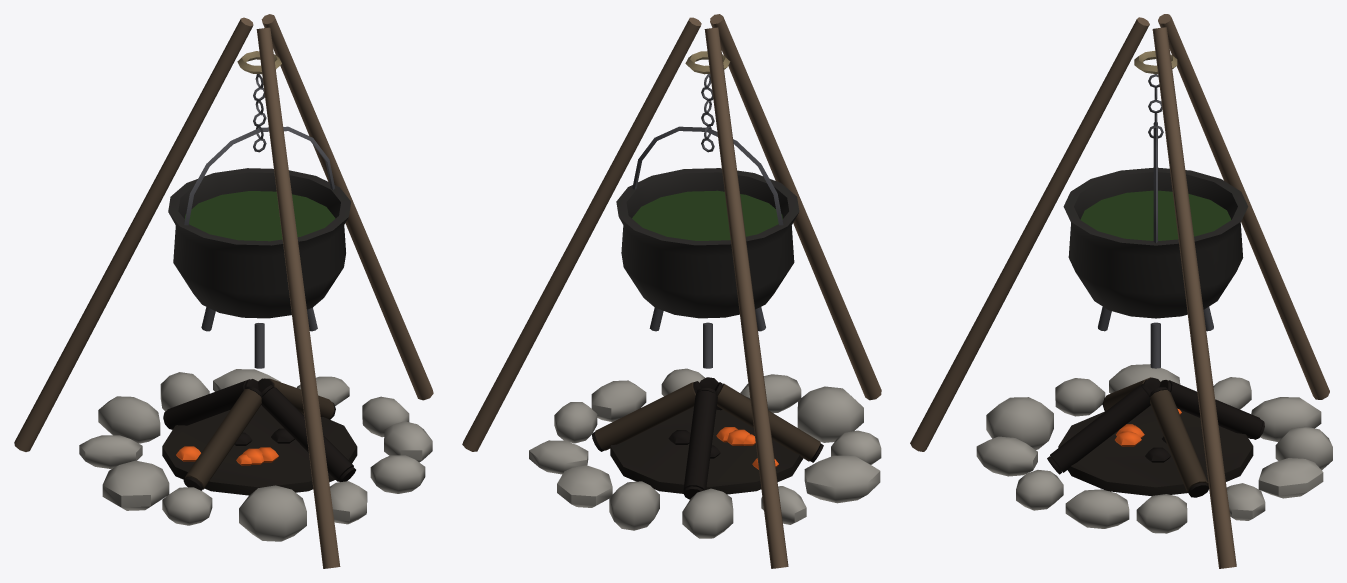
File: cauldron_fire.glb
The picture shows the model from 3 angles, left to right: view 1: azimuth 30°, elevation 25°; view 2: azimuth 150°, elevation 25°; view 3: azimuth 270°, elevation 25°; orthographic projection.
Parts seen in each view (by area): view 1: cauldron_fire; view 2: cauldron_fire; view 3: cauldron_fire.
Boxes of the visible parts, bbox=[...] form: cauldron_fire: bbox=[14, 14, 433, 568]; cauldron_fire: bbox=[462, 14, 881, 568]; cauldron_fire: bbox=[910, 14, 1332, 568].
Size of the model in its own units: 1.67 by 1.96 by 1.65.
